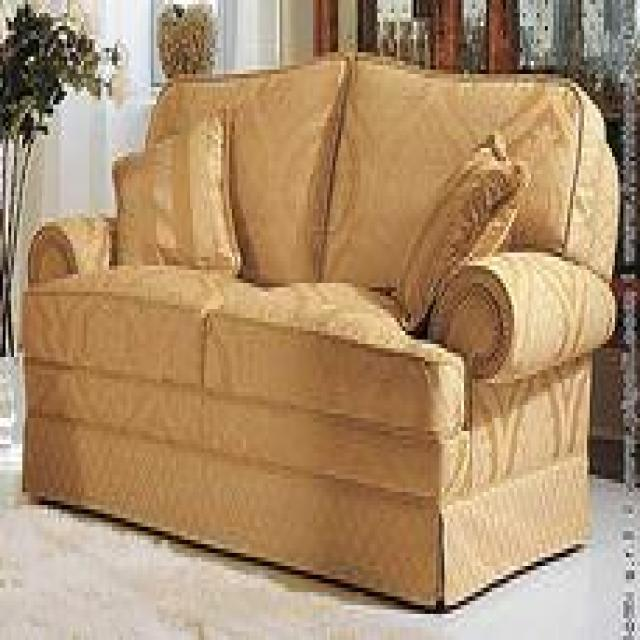sofa: (20, 52, 619, 616)
